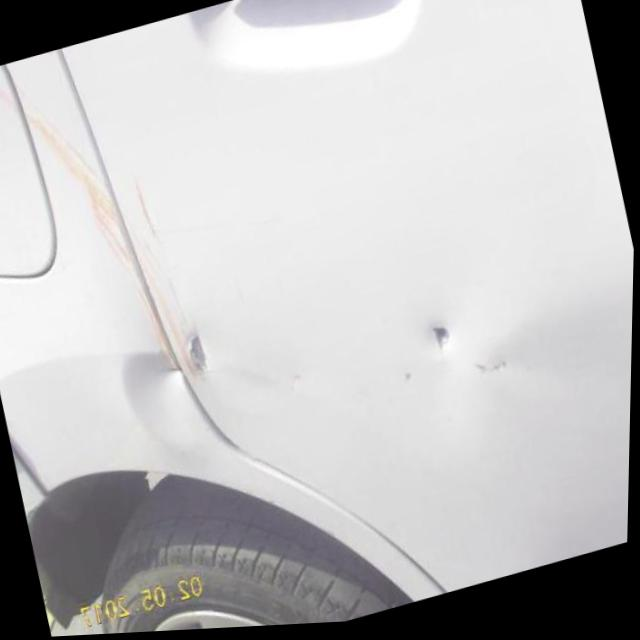Car-Damage: (0, 27, 211, 433), (411, 311, 468, 372), (176, 323, 222, 394), (467, 354, 518, 390), (399, 367, 421, 395)
